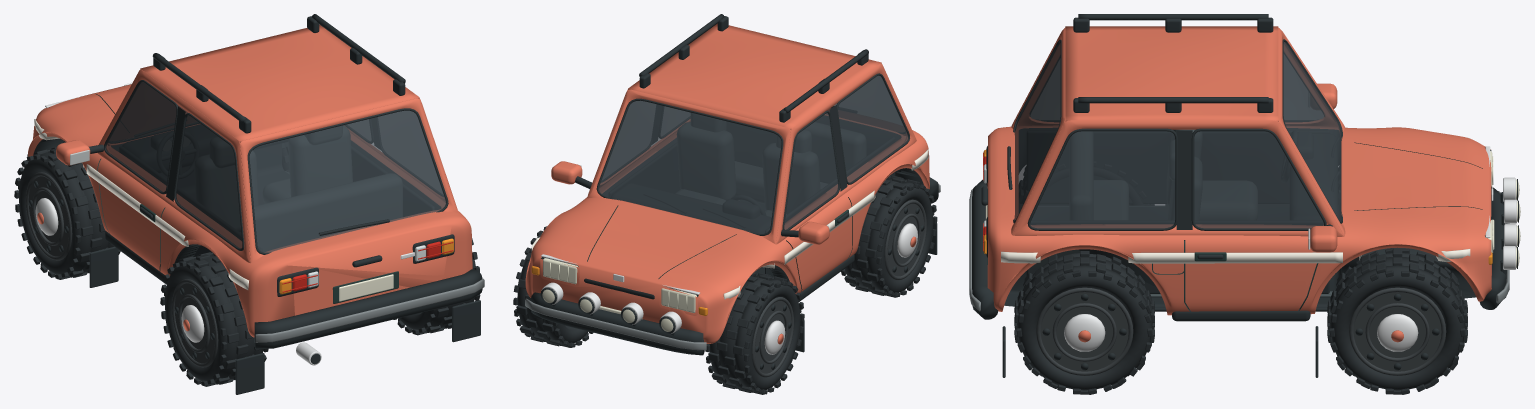
File: scamp.fbx
The picture shows the model from 3 angles, left to right: view 1: azimuth 30°, elevation 25°; view 2: azimuth 150°, elevation 25°; view 3: azimuth 270°, elevation 25°; orthographic projection. The views are drawn at different scales.
Visible parts, largest first — view 1: Body, Wheel_RL_Mesh, Wheel_FL_Mesh, Wheel_RR_Mesh; view 2: Body, Wheel_FL_Mesh, Wheel_RL_Mesh, Wheel_FR_Mesh; view 3: Body, Wheel_FR_Mesh, Wheel_RR_Mesh, Wheel_RL_Mesh.
Part boxes in pixels (x1,y1,x2,y2): Body: [27, 14, 484, 394]; Wheel_RL_Mesh: [160, 252, 268, 386]; Wheel_FL_Mesh: [14, 147, 120, 279]; Wheel_RR_Mesh: [393, 238, 480, 335]; Body: [525, 14, 940, 355]; Wheel_FL_Mesh: [705, 272, 804, 394]; Wheel_RL_Mesh: [841, 175, 937, 297]; Wheel_FR_Mesh: [513, 226, 593, 347]; Body: [969, 14, 1520, 377]; Wheel_FR_Mesh: [1327, 248, 1467, 394]; Wheel_RR_Mesh: [1014, 251, 1154, 394]; Wheel_RL_Mesh: [1019, 161, 1154, 205].
Bounding box in the file's own units: 229 × 188 × 342.
